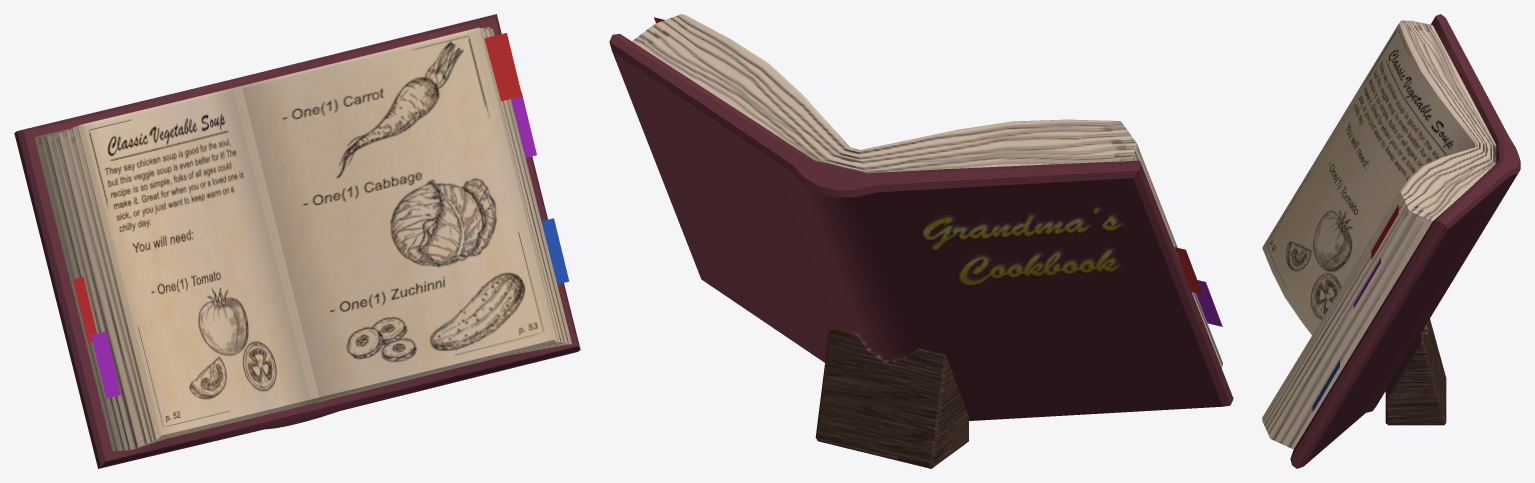
File: Mesh_Kitchen_Cookbook.fbx
The picture shows the model from 3 angles, left to right: view 1: azimuth 30°, elevation 25°; view 2: azimuth 150°, elevation 25°; view 3: azimuth 270°, elevation 25°; orthographic projection. The views are drawn at different scales.
Parts seen in each view (by area): view 1: Mesh_Kitchen_CookBook; view 2: Mesh_Kitchen_CookBook; view 3: Mesh_Kitchen_CookBook.
Part boxes in pixels (x1,y1,x2,y2): Mesh_Kitchen_CookBook: [14, 14, 580, 468]; Mesh_Kitchen_CookBook: [609, 14, 1233, 468]; Mesh_Kitchen_CookBook: [1262, 14, 1520, 468].
Bounding box in the file's own units: 32.03 × 21.35 × 16.82.
Materials: 1 (1 with a texture image).
